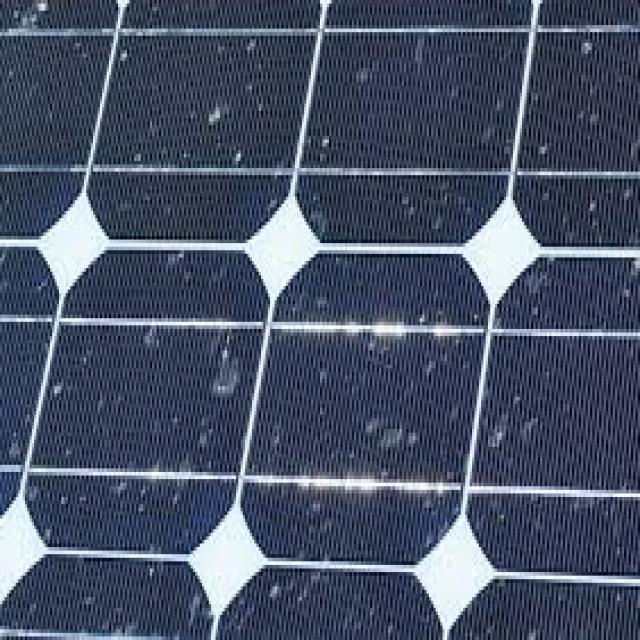faulty: (6, 0, 593, 601)
